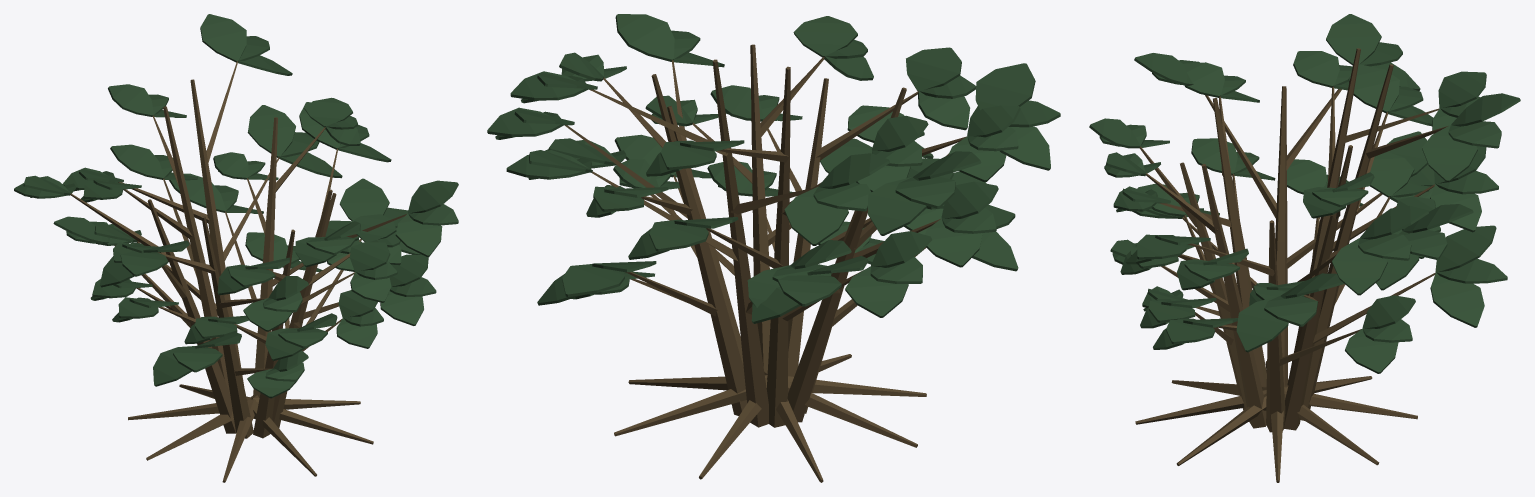
Rendered from plant_014b_rooted_thicket.glb.
3 views of the same model, side by side, from view 1: azimuth 30°, elevation 25°; view 2: azimuth 150°, elevation 25°; view 3: azimuth 270°, elevation 25° (orthographic). The views are drawn at different scales.
Parts seen in each view (by area): view 1: plant_014b_rooted_thicket__crown_foliage, plant_014b_rooted_thicket__roots_and_shoots; view 2: plant_014b_rooted_thicket__crown_foliage, plant_014b_rooted_thicket__roots_and_shoots; view 3: plant_014b_rooted_thicket__crown_foliage, plant_014b_rooted_thicket__roots_and_shoots.
Part boxes in pixels (x1,y1,x2,y2): plant_014b_rooted_thicket__crown_foliage: [14, 14, 458, 398]; plant_014b_rooted_thicket__roots_and_shoots: [70, 61, 406, 482]; plant_014b_rooted_thicket__crown_foliage: [487, 14, 1060, 323]; plant_014b_rooted_thicket__roots_and_shoots: [565, 44, 966, 482]; plant_014b_rooted_thicket__crown_foliage: [1089, 14, 1520, 373]; plant_014b_rooted_thicket__roots_and_shoots: [1135, 48, 1447, 482].
Size of the model in its own units: 2.27 by 1.88 by 2.03.
